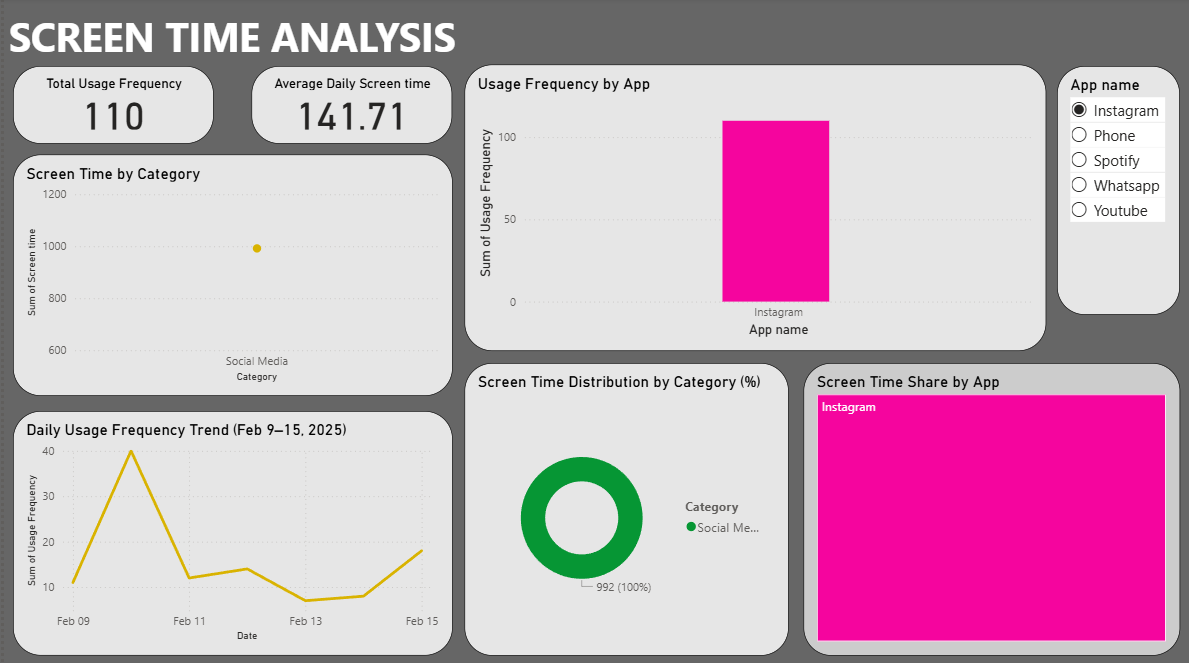

What the dashboard file says about the page in this screenshot:
{"tool":"powerbi","page":{"name":"Page 1","canvas":[1280,720],"ordinal":0},"visuals":[{"type":"lineChart","fields":{"Category":["Table 1 (Sheet1).Date"],"Y":["Sum(Table 1 (Sheet1).Usage Frequency)"]},"box":[9.7,446.9,474.4,263.9],"z":0},{"type":"clusteredColumnChart","fields":{"Category":["Table 1 (Sheet1).App name"],"Y":["Sum(Table 1 (Sheet1).Usage Frequency)"]},"box":[497.1,72.9,631.5,270.4],"z":1000},{"type":"card","title":"Average Screen time","fields":{"Values":["Avg(Table 1 (Sheet1).Screen time)"]},"box":[267.2,74.5,217,103.6],"z":2000},{"type":"listSlicer","fields":{"Values":["Table 1 (Sheet1).App name"]},"box":[1139.9,74.5,129.5,268.8],"z":3000},{"type":"areaChart","fields":{"Category":["Table 1 (Sheet1).Category"],"Y":["Sum(Table 1 (Sheet1).Screen time)"]},"box":[9.7,184.6,474.4,246.1],"z":4000},{"type":"treemap","fields":{"Details":["Table 1 (Sheet1).App name"],"Values":["Sum(Table 1 (Sheet1).Screen time)"]},"box":[863,359.5,406.4,351.4],"z":5000},{"type":"card","title":"Total Usage Frequency","fields":{"Values":["Sum(Table 1 (Sheet1).Usage Frequency)"]},"box":[9.7,74.5,217,103.6],"z":6000},{"type":"textbox","box":[0,8.1,497.1,66.4],"z":7000},{"type":"donutChart","title":"Percentage of Total Screen time ","fields":{"Y":["Sum(Table 1 (Sheet1).Screen time)"],"Category":["Table 1 (Sheet1).Category"]},"box":[497.1,359.5,349.8,351.4],"z":8000}]}

Visuals, with their boxes in screenshot pixels (x1, y1, x2, y2), scaled from the page's 1280x720 canvas onto the 1189x663 screenshot:
lineChart - Table 1 (Sheet1).Date x Sum(Table 1 (Sheet1).Usage Frequency): detection(9, 412, 450, 655)
clusteredColumnChart - Table 1 (Sheet1).App name x Sum(Table 1 (Sheet1).Usage Frequency): detection(462, 67, 1048, 316)
"Average Screen time" card: detection(248, 69, 450, 164)
listSlicer - Table 1 (Sheet1).App name: detection(1059, 69, 1179, 316)
areaChart - Table 1 (Sheet1).Category x Sum(Table 1 (Sheet1).Screen time): detection(9, 170, 450, 397)
treemap - Table 1 (Sheet1).App name x Sum(Table 1 (Sheet1).Screen time): detection(802, 331, 1179, 655)
"Total Usage Frequency" card: detection(9, 69, 211, 164)
textbox: detection(0, 7, 462, 69)
"Percentage of Total Screen time " donutChart: detection(462, 331, 787, 655)
